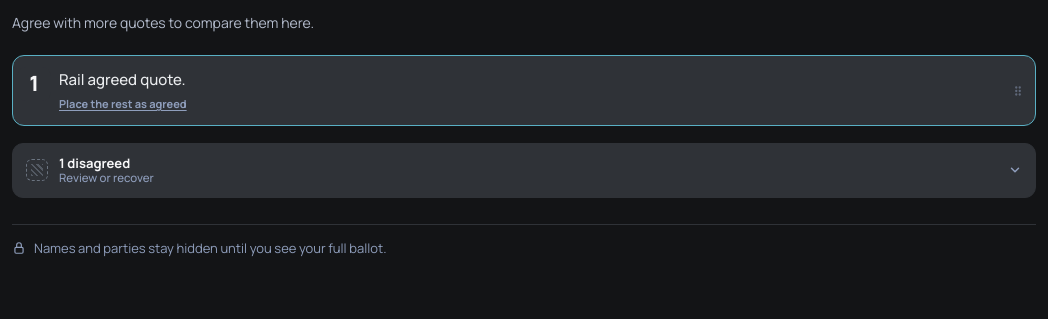
Scenario: RankRail › recovers a disagreed quote into the ranking
Click the button "1 disagreed Review or recover".
click(97, 163)  # box [12,143,1036,198]
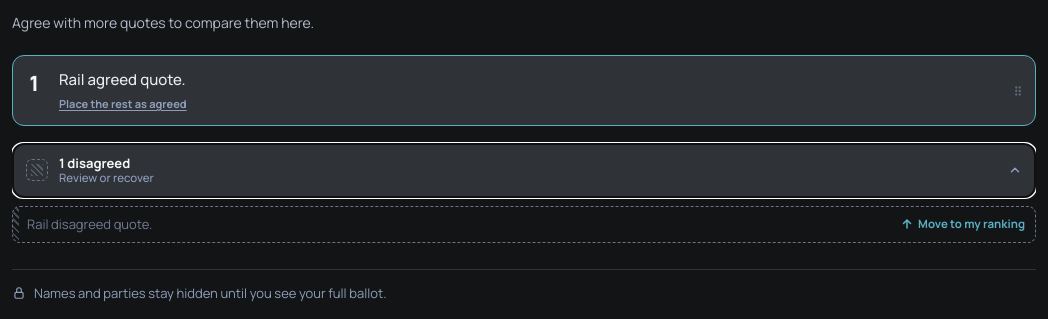
Click the button "Move to my ranking".
click(963, 224)  # box [900,216,1025,233]
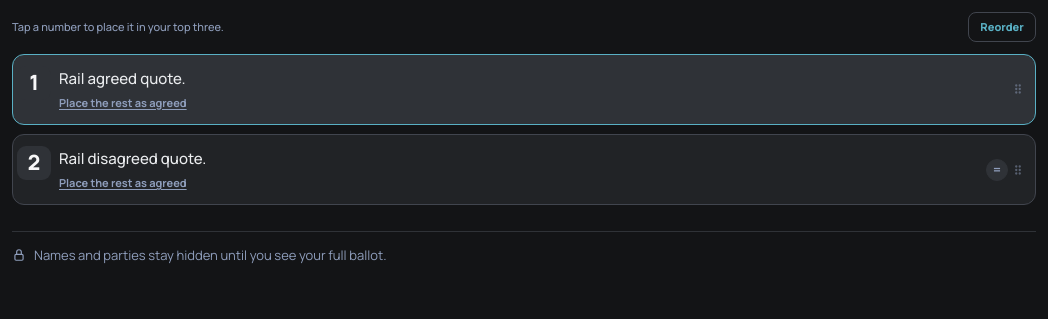
Result: the button "Review or recover" is gone
